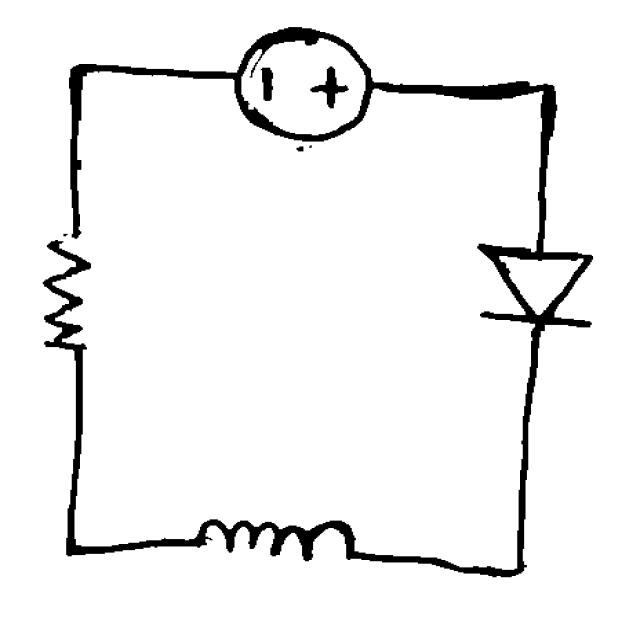dc: (230, 19, 382, 150)
diode: (458, 228, 606, 344)
inductor: (176, 504, 376, 574)
resistor: (34, 210, 105, 379)
